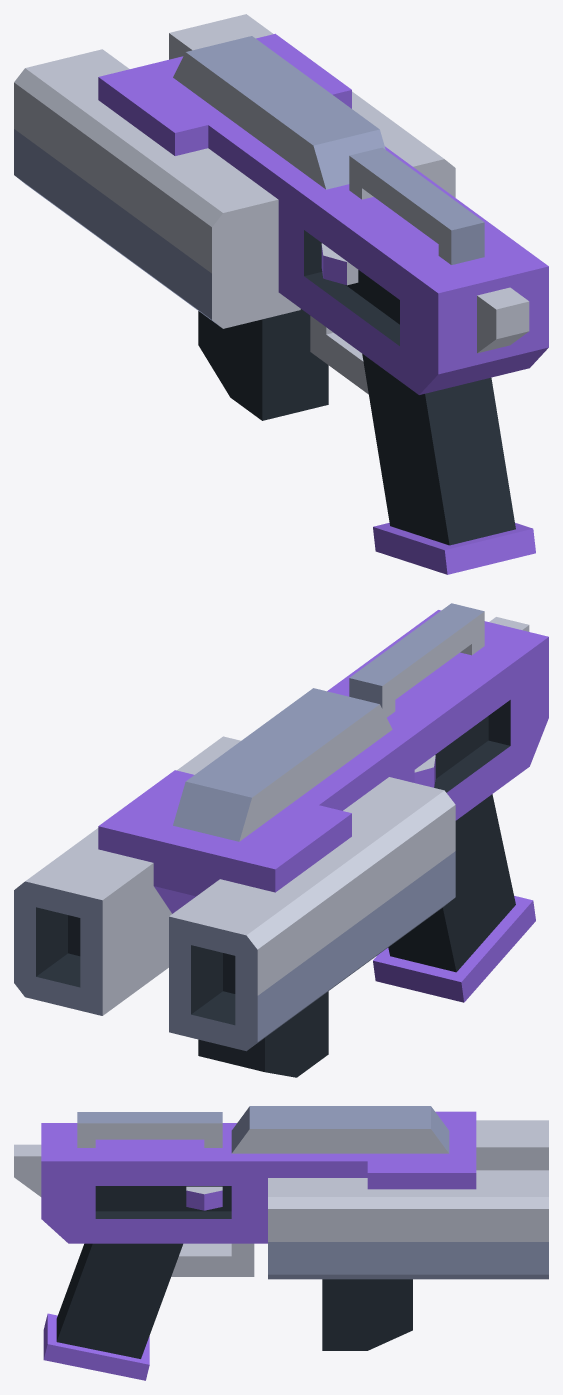
The model's file is blasterL.obj.
The picture shows the model from 3 angles, top to bottom: view 1: azimuth 30°, elevation 25°; view 2: azimuth 150°, elevation 25°; view 3: azimuth 270°, elevation 25°; orthographic projection. The views are drawn at different scales.
Parts seen in each view (by area): view 1: blasterL; view 2: blasterL; view 3: blasterL.
Boxes of the visible parts, x1,y1,x2,y2 form: blasterL: [14, 14, 548, 574]; blasterL: [14, 603, 548, 1077]; blasterL: [14, 1106, 548, 1380].
Bounding box in the file's own units: 0.22 × 0.3017 × 0.59.
